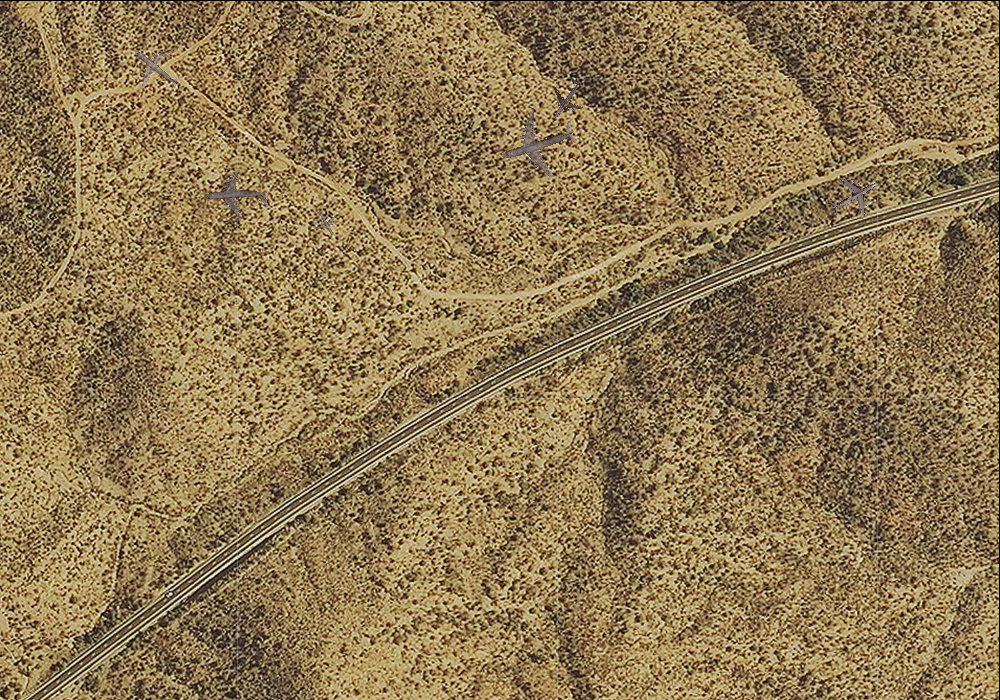plane: (490, 97, 586, 190), (118, 30, 193, 104), (820, 162, 888, 229), (201, 165, 270, 228), (537, 69, 595, 127), (307, 203, 343, 241)
